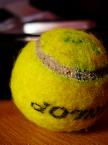tennis ball: (10, 27, 108, 134)
